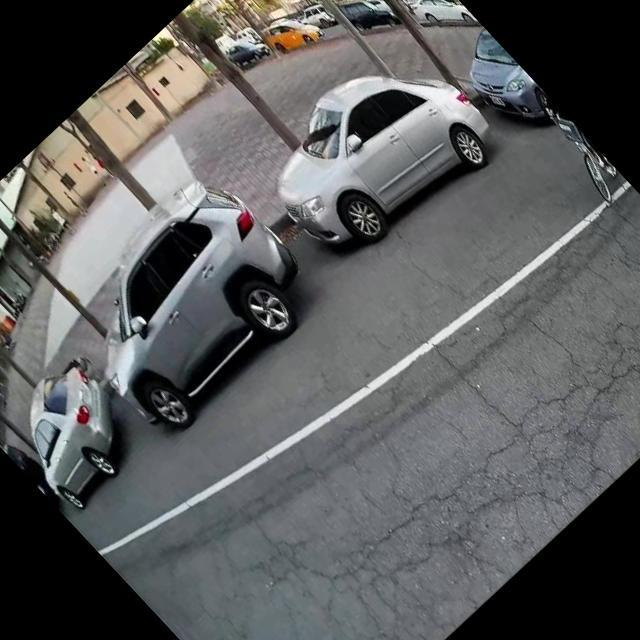person: (45, 202, 82, 240), (74, 150, 110, 188), (57, 183, 92, 220), (89, 150, 119, 182)
